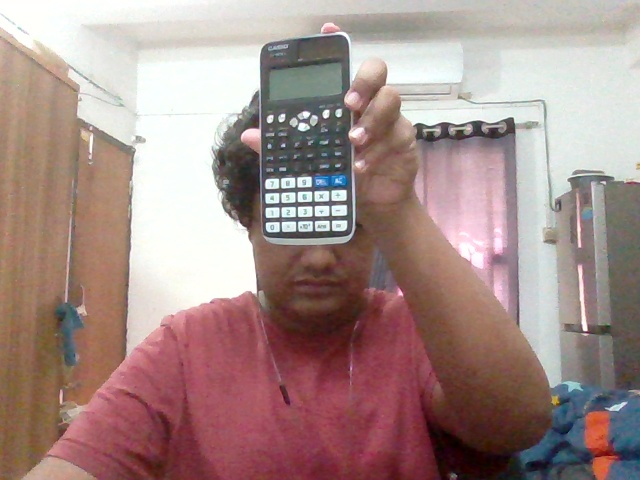calculator: (259, 31, 356, 245)
